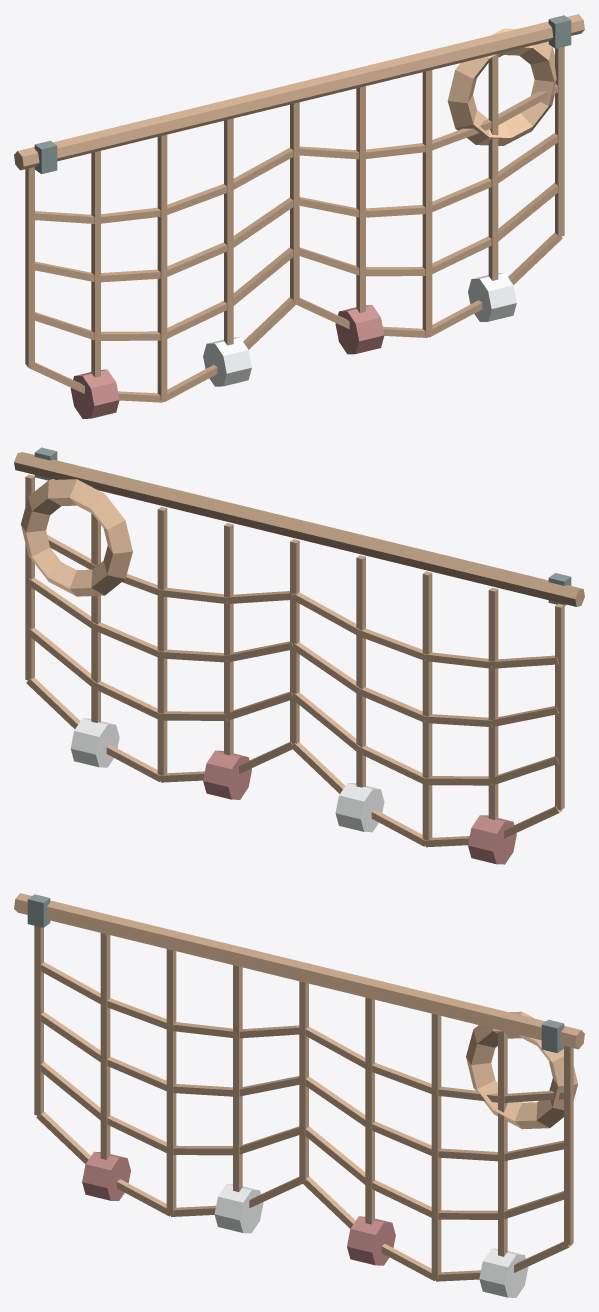
Rendered from fishing_net.glb.
3 views of the same model, one above another, from view 1: azimuth 30°, elevation 25°; view 2: azimuth 150°, elevation 25°; view 3: azimuth 330°, elevation 25° (orthographic).
Visible parts, largest first — view 1: FishingNet; view 2: FishingNet; view 3: FishingNet.
Part boxes in pixels (box(x1,y1,x2,y2)): FishingNet: box(14, 14, 584, 418); FishingNet: box(14, 447, 584, 864); FishingNet: box(14, 893, 584, 1297).
Bounding box in the file's own units: 1.29 × 0.6432 × 0.0973.
